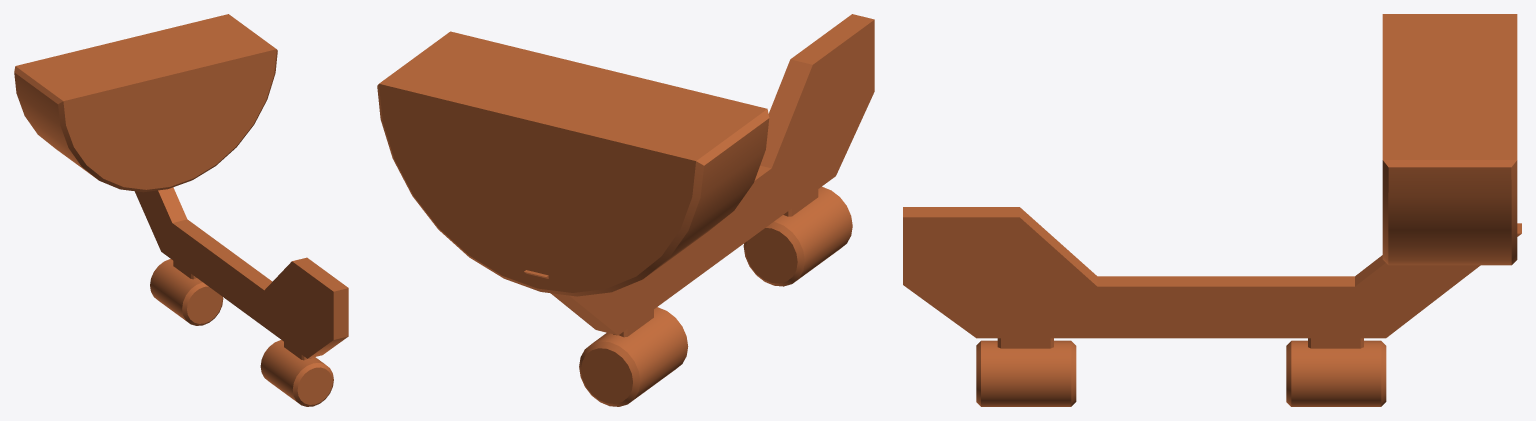
Rendered from env_building_tanksmallsupport.fbx.
3 views of the same model, side by side, from view 1: azimuth 30°, elevation 25°; view 2: azimuth 150°, elevation 25°; view 3: azimuth 270°, elevation 25° (orthographic). The views are drawn at different scales.
Visible parts, largest first — view 1: env_building_tanksmallsupport_col:env_building_tanksmallsupp; view 2: env_building_tanksmallsupport_col:env_building_tanksmallsupp; view 3: env_building_tanksmallsupport_col:env_building_tanksmallsupp.
Boxes of the visible parts, left/top/right/bottom form: env_building_tanksmallsupport_col:env_building_tanksmallsupp: left=14, top=14, right=348, bottom=406; env_building_tanksmallsupport_col:env_building_tanksmallsupp: left=377, top=14, right=874, bottom=406; env_building_tanksmallsupport_col:env_building_tanksmallsupp: left=903, top=14, right=1521, bottom=406.
Bounding box in the file's own units: 0.9033 × 0.8887 × 1.57.
